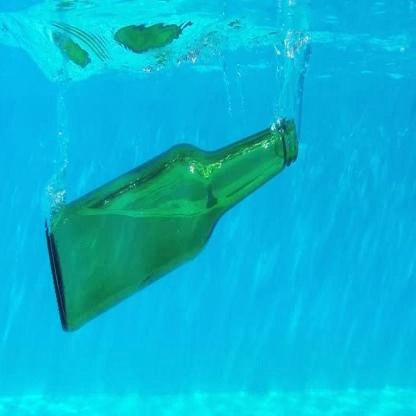gbottle: (44, 118, 300, 332)
